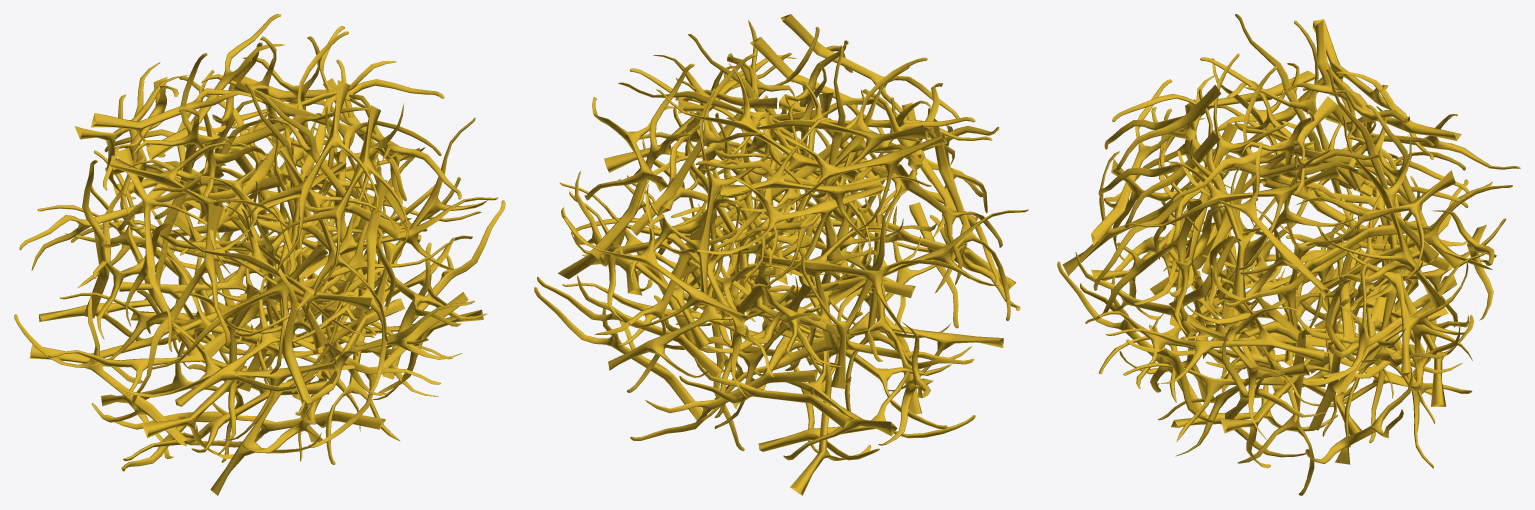
The model's file is Tumbleweed.fbx.
The picture shows the model from 3 angles, left to right: view 1: azimuth 30°, elevation 25°; view 2: azimuth 150°, elevation 25°; view 3: azimuth 270°, elevation 25°; orthographic projection.
Parts seen in each view (by area): view 1: polySurface7; view 2: polySurface7; view 3: polySurface7.
Boxes of the visible parts, left/top/right/bottom form: polySurface7: left=14, top=14, right=505, bottom=495; polySurface7: left=534, top=14, right=1028, bottom=495; polySurface7: left=1057, top=14, right=1520, bottom=495.
Size of the model in its own units: 1129 by 1038 by 1017.
